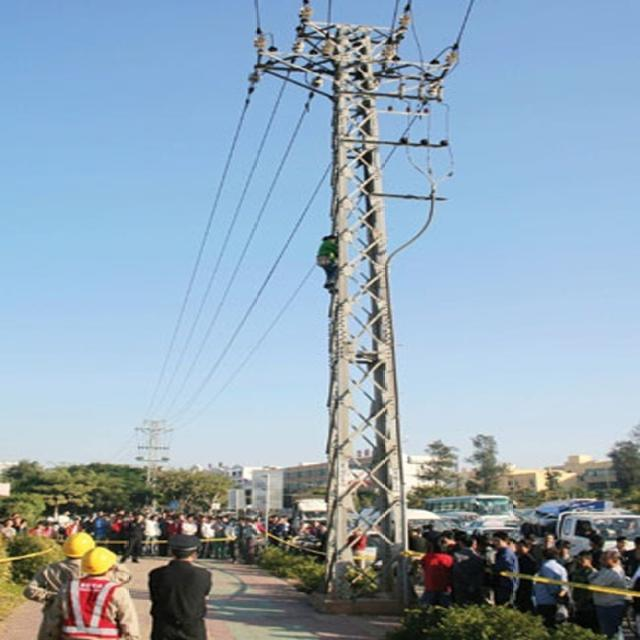non-critical vegetation: (246, 16, 479, 536)
